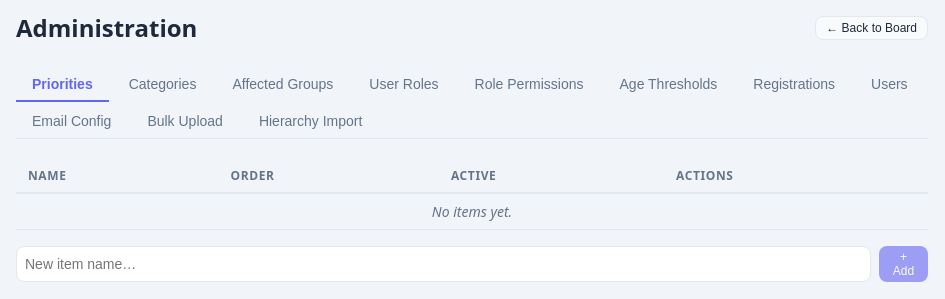
Test case: AdminPanel › switches to Hierarchy Import tab and shows upload UI
Click the button "Hierarchy Import" at (311, 122), box [243,105,378,139]
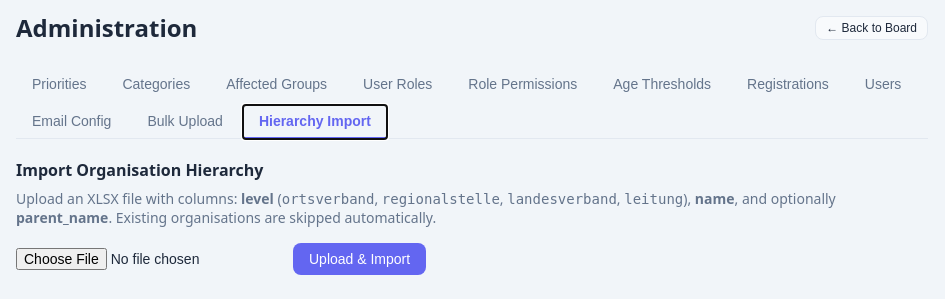
Now the heading "Import Organisation Hierarchy" is shown, box [16,159,263,181]
